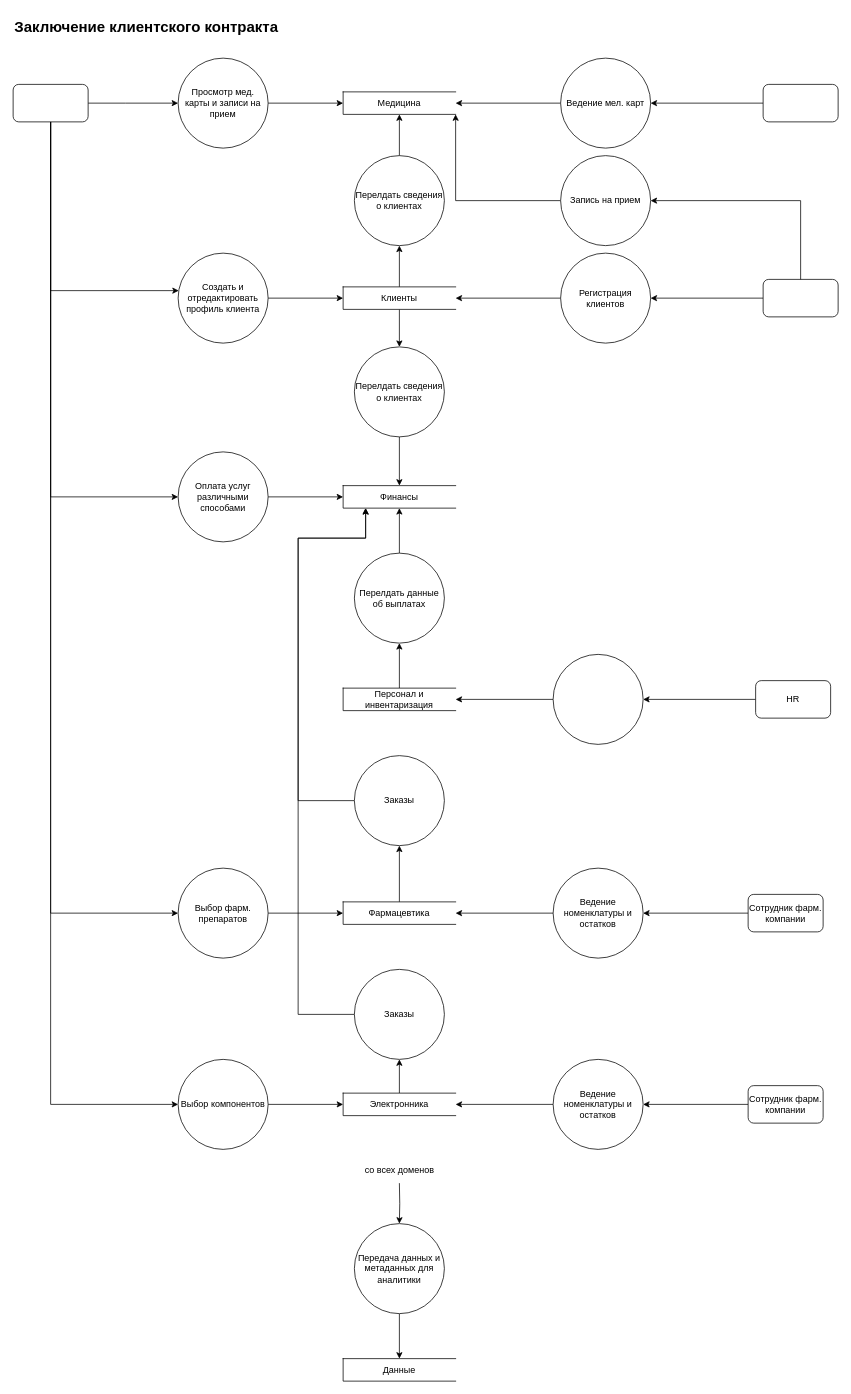
This 851x1394 diagram has some shape labels left out. Each missing label, with the centre of its shape:
Врач: the point at 800,103
Клиент: the point at 50,103
Обновление информации по сотрудникам: the point at 597,699
Ресепшионист: the point at 800,298
